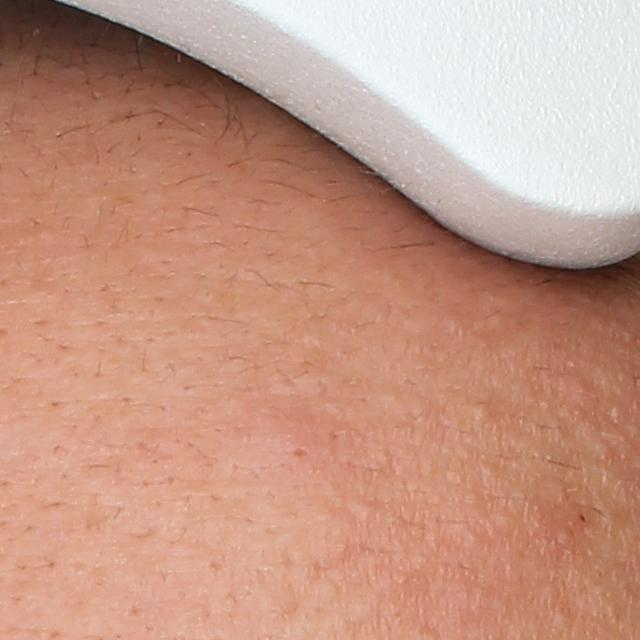comedo: (469, 401, 495, 429), (285, 441, 310, 465), (355, 499, 376, 521)
